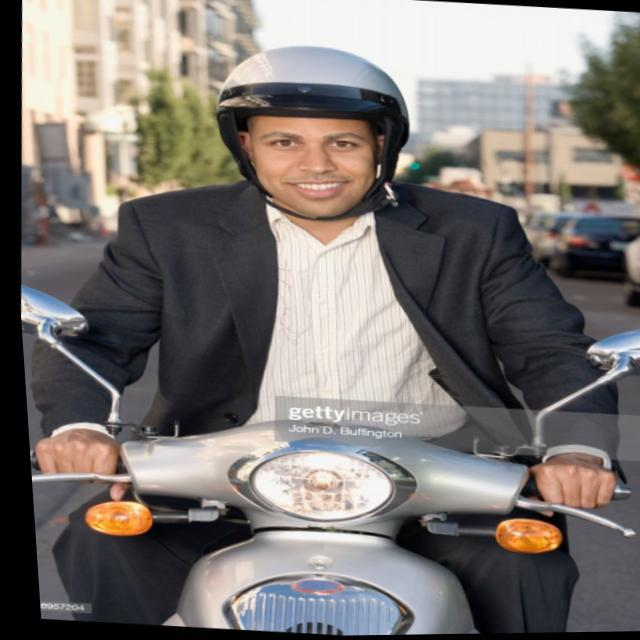Helmet: (210, 39, 422, 215)
